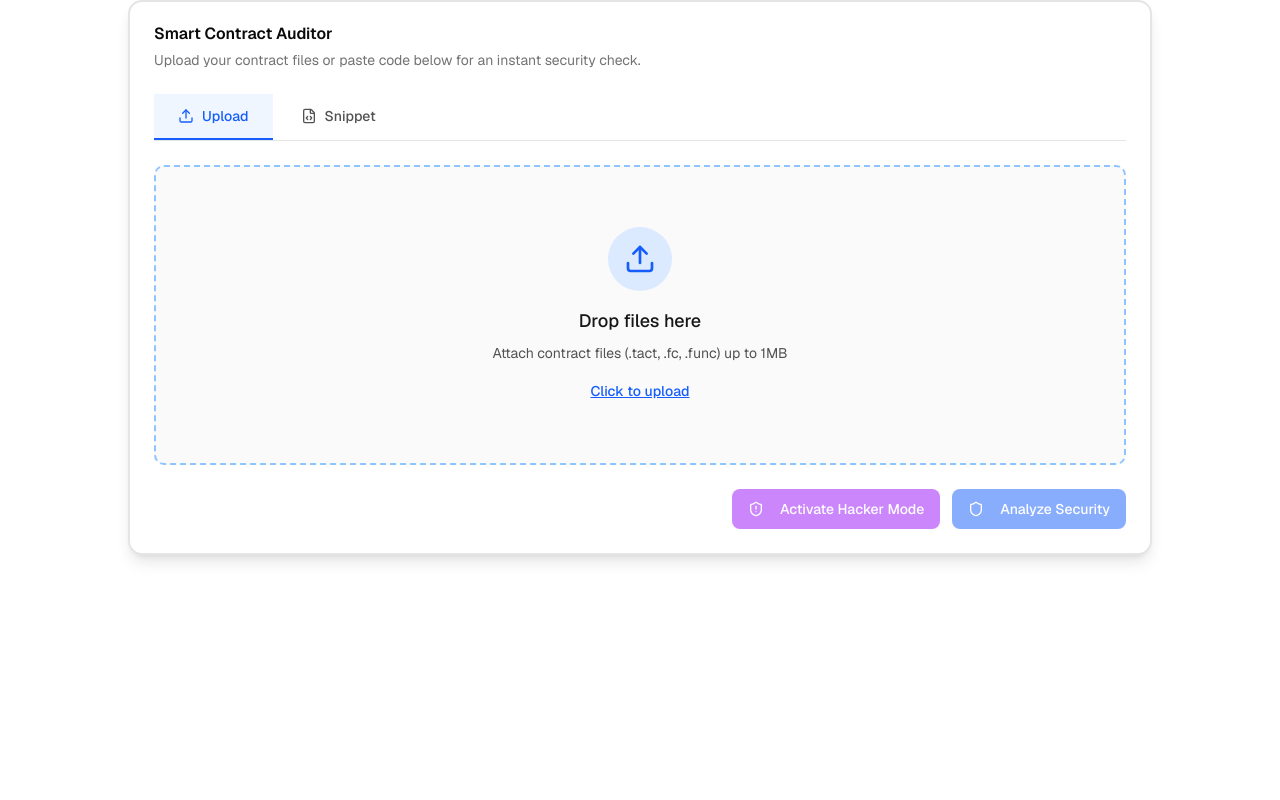
CodeAnalyzer › shows auto-detect error when unrecognized code is typed
Click the button "Snippet".
click(338, 117)  # box [277,94,400,140]
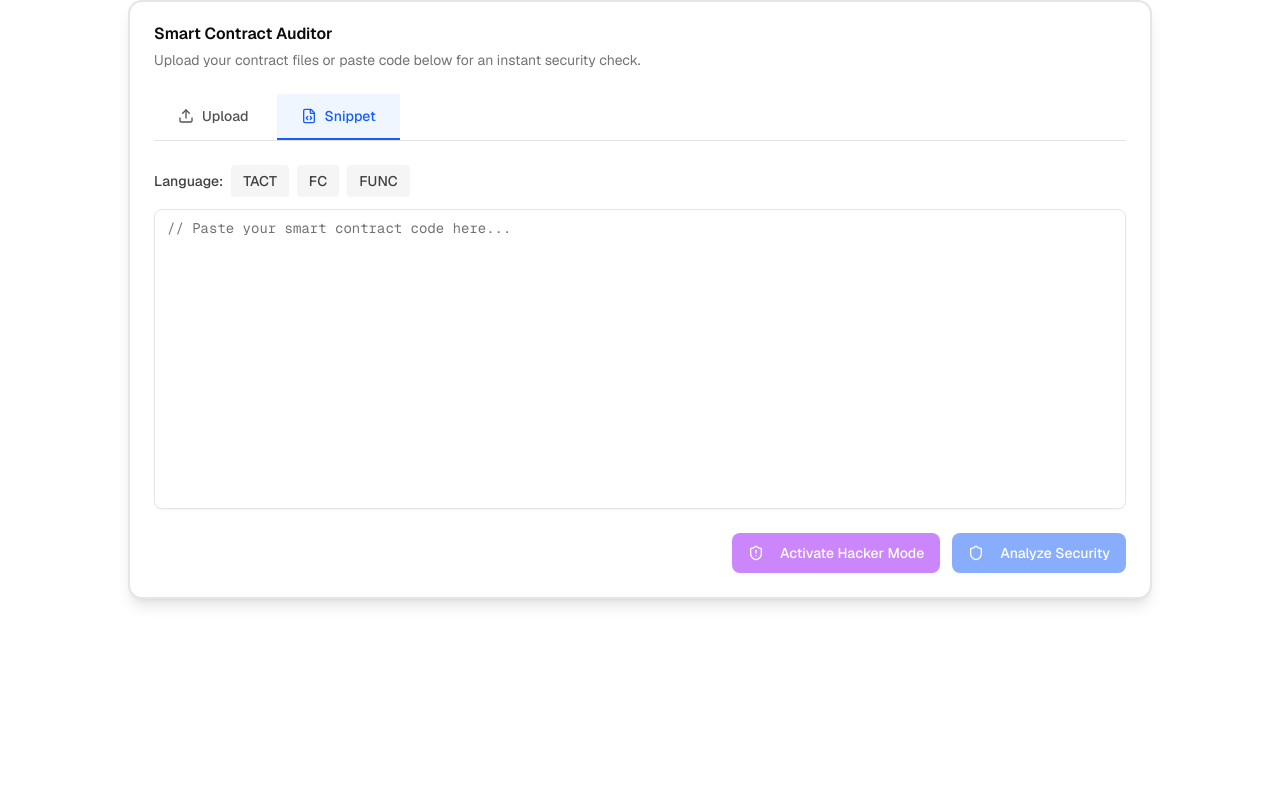
Type "int x = 5;" into the text box with placeholder "// Paste your smart contract code here...".
click(640, 359); type("int x = 5;")  # box [154,209,1126,509]
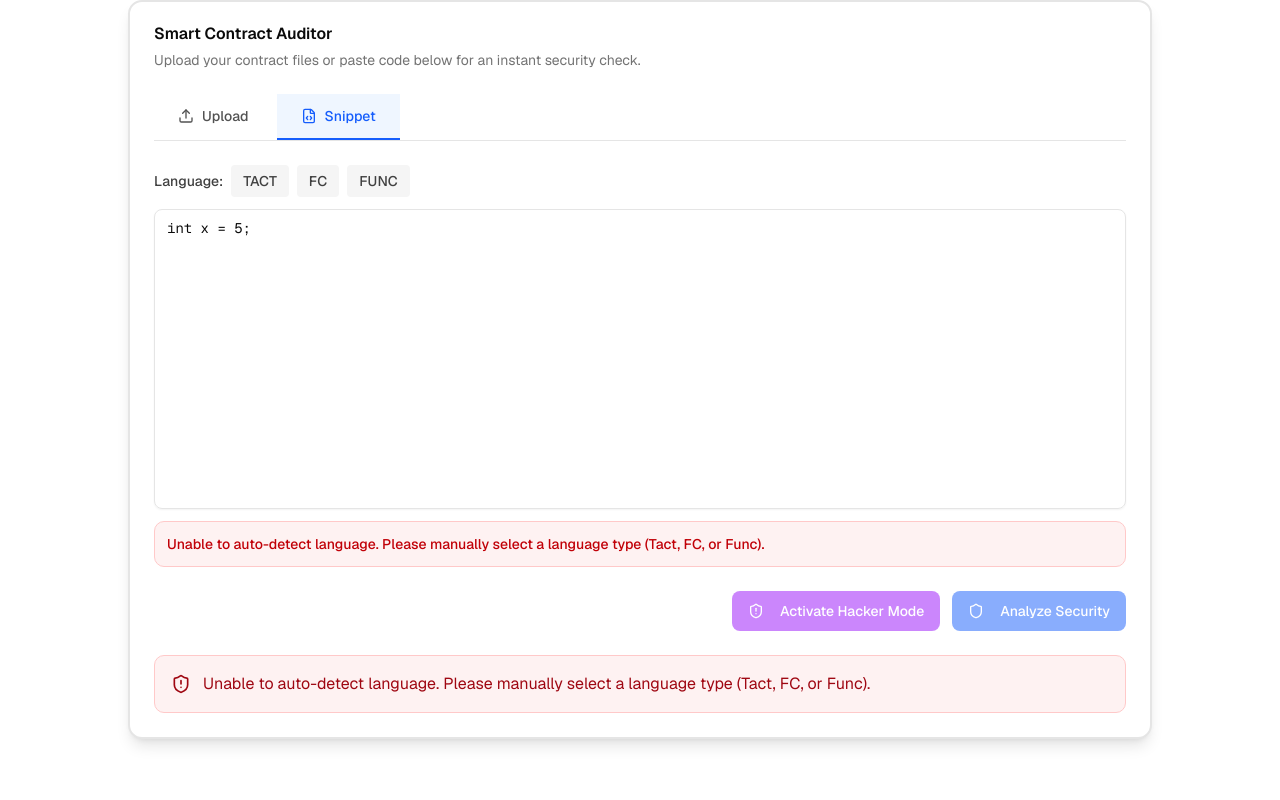
Expected: the 1st text "Unable to auto-detect language" is shown, [167,535,764,553]
